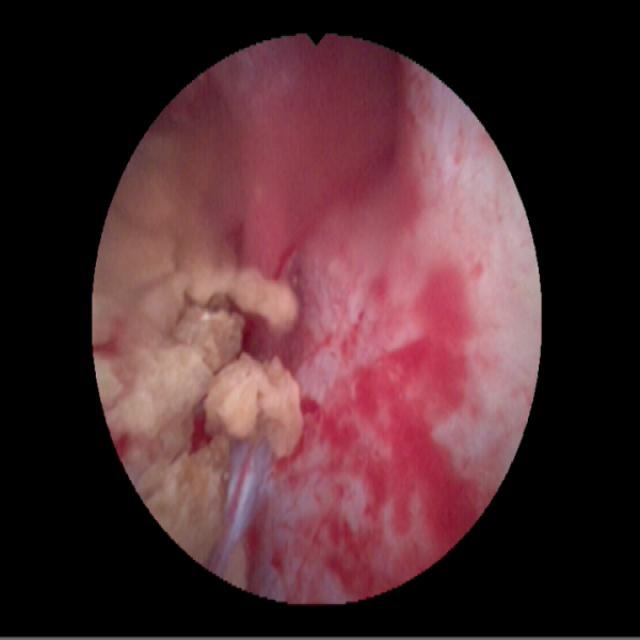stone: (95, 139, 300, 560)
